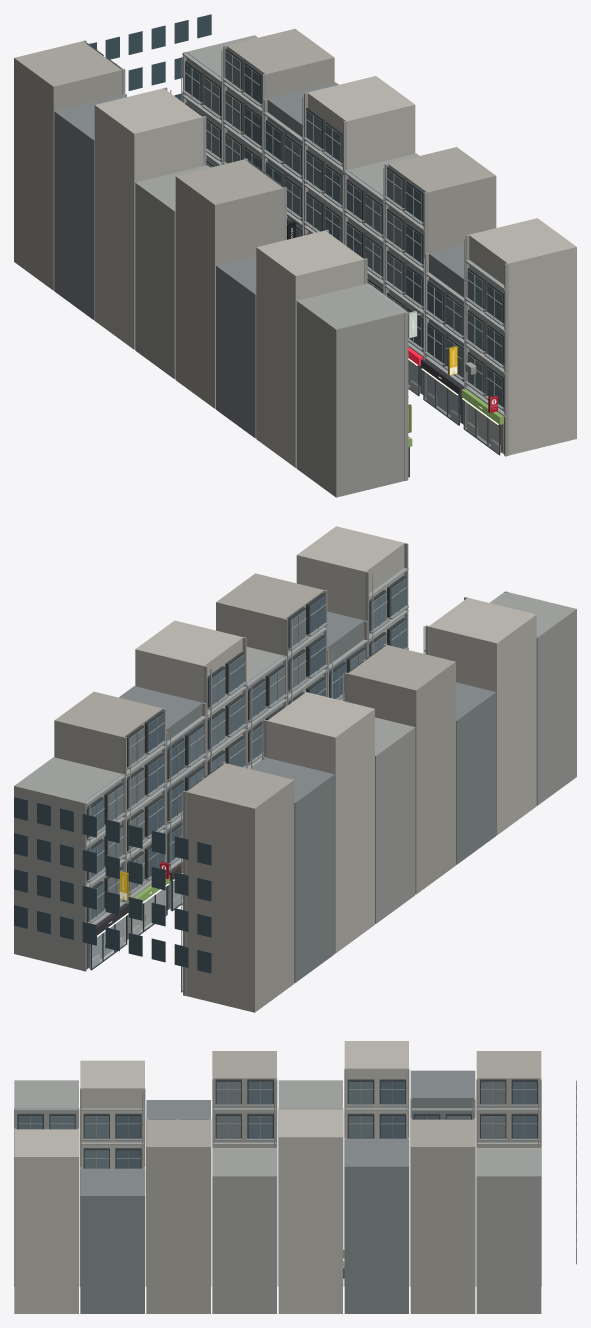
The model's file is kit_street.glb.
The picture shows the model from 3 angles, top to bottom: view 1: azimuth 30°, elevation 25°; view 2: azimuth 150°, elevation 25°; view 3: azimuth 270°, elevation 25°; orthographic projection. The views are drawn at different scales.
Parts seen in each view (by area): view 1: Building shell -1 0, Building shell 1 0, Building shell -1 5, Building shell -1 3, Building shell -1 7, Building shell -1 1, Building shell -1 6, Building shell -1 4, Building shell 1 2, Building shell 1 4, Building shell -1 2, Building shell 1 6 (+8 smaller); view 2: Building shell -1 7, Building shell -1 5, Building shell -1 3, Building shell -1 1, Building shell 1 7, Building shell -1 6, Building shell -1 0, Building shell -1 4, Building shell -1 2, Building shell 1 0, Building shell 1 4, Building shell 1 6 (+4 smaller); view 3: Building shell 1 4, Building shell 1 6, Building shell 1 2, Building shell 1 0, Building shell 1 5, Building shell 1 7, Building shell 1 3, Building shell 1 1, Building shell -1 1, Building shell -1 5, Building shell -1 7, Building shell -1 3 (+20 smaller).
Boxes of the visible parts, x1,y1,x2,y2 form: Building shell -1 0: [296, 284, 404, 497]; Building shell 1 0: [469, 218, 576, 455]; Building shell -1 5: [94, 88, 202, 349]; Building shell -1 3: [175, 159, 283, 408]; Building shell -1 7: [14, 41, 121, 290]; Building shell -1 1: [256, 230, 364, 467]; Building shell -1 6: [54, 95, 126, 320]; Building shell -1 4: [135, 166, 206, 379]; Building shell 1 2: [388, 147, 496, 358]; Building shell 1 4: [307, 76, 415, 233]; Building shell -1 2: [216, 256, 256, 438]; Building shell 1 6: [227, 29, 334, 157]; Building shell -1 7: [186, 763, 294, 1012]; Building shell -1 5: [267, 692, 374, 953]; Building shell -1 3: [347, 645, 455, 894]; Building shell -1 1: [428, 598, 536, 835]; Building shell 1 7: [14, 757, 121, 970]; Building shell -1 6: [250, 757, 334, 982]; Building shell -1 0: [492, 592, 576, 805]; Building shell -1 4: [375, 717, 415, 923]; Building shell -1 2: [456, 682, 496, 864]; Building shell 1 0: [296, 526, 404, 642]; Building shell 1 4: [135, 620, 242, 761]; Building shell 1 6: [54, 691, 162, 902]; Building shell 1 4: [278, 1109, 342, 1313]; Building shell 1 6: [410, 1119, 475, 1313]; Building shell 1 2: [146, 1119, 210, 1313]; Building shell 1 0: [14, 1129, 78, 1313]; Building shell 1 5: [344, 1139, 408, 1313]; Building shell 1 7: [476, 1149, 541, 1313]; Building shell 1 3: [212, 1149, 276, 1313]; Building shell 1 1: [80, 1168, 144, 1313]; Building shell -1 1: [80, 1060, 144, 1168]; Building shell -1 5: [344, 1041, 408, 1139]; Building shell -1 7: [476, 1051, 541, 1147]; Building shell -1 3: [212, 1051, 276, 1147].
Size of the model in its own units: 21 by 18 by 51.99.
138 materials, 16 textured.
